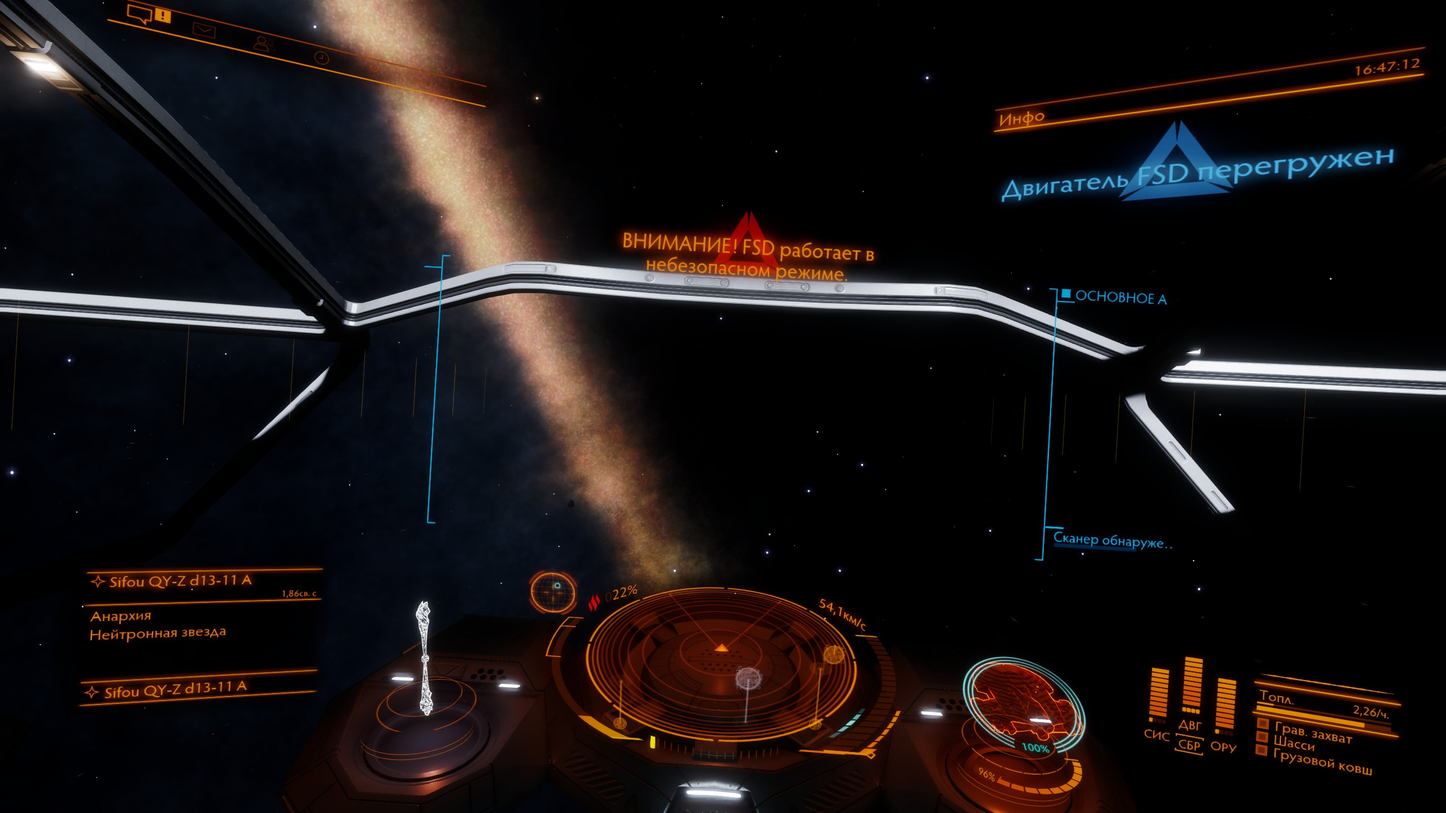jetcone: (1235, 161, 1271, 183)
